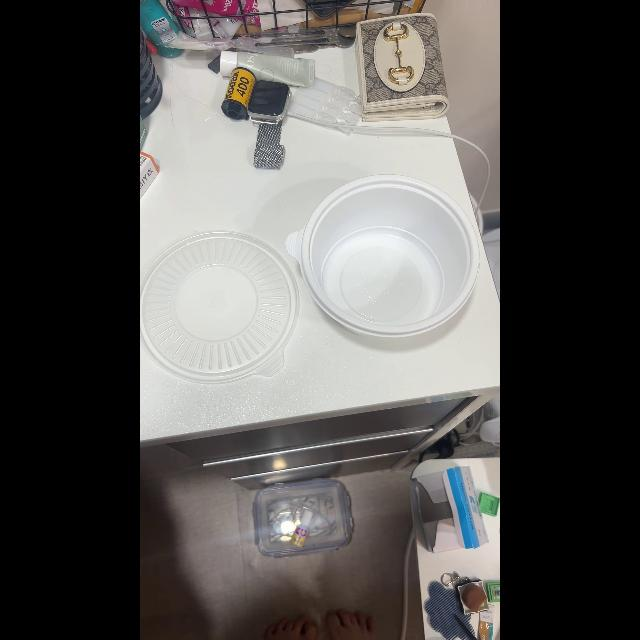clean: (286, 177, 478, 333), (140, 232, 298, 382)
